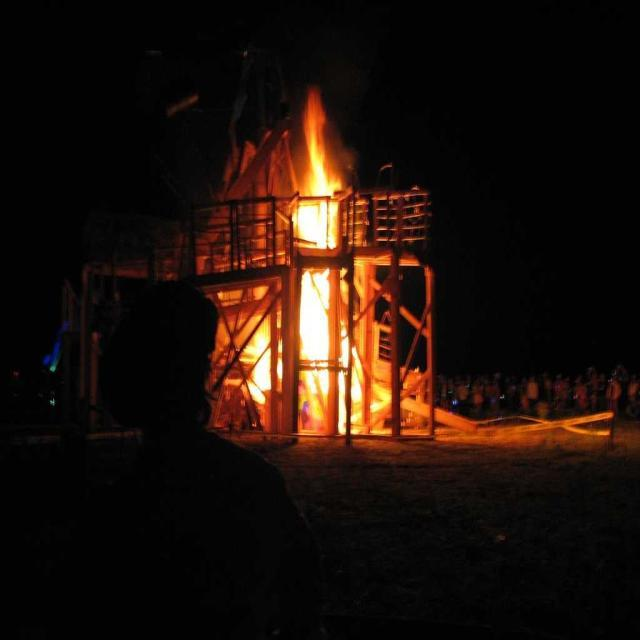Fire: (303, 165, 337, 246), (304, 272, 327, 361), (254, 338, 269, 392), (306, 371, 328, 402)
